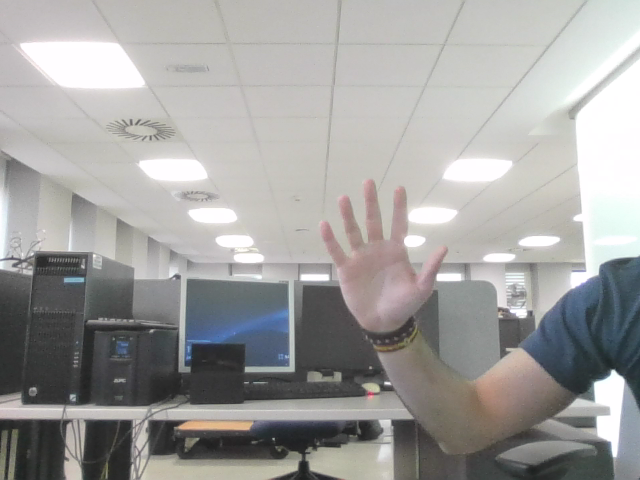Mano Abierta: (329, 191, 435, 305)
